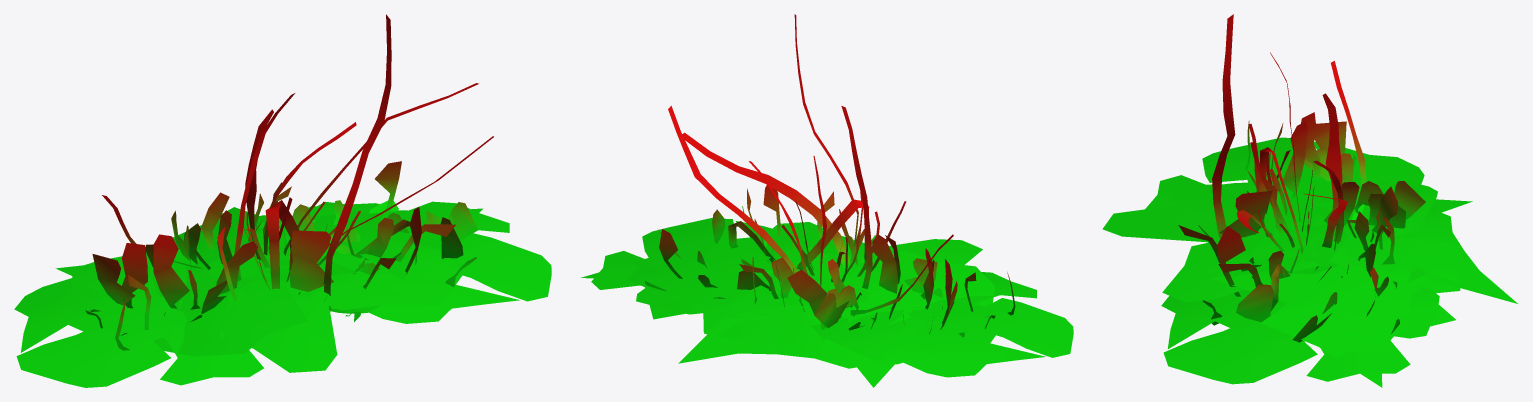
File: Wild Grass_LOD0_Var10_vdilbaiia.fbx
3 views of the same model, side by side, from view 1: azimuth 30°, elevation 25°; view 2: azimuth 150°, elevation 25°; view 3: azimuth 270°, elevation 25° (orthographic). The views are drawn at different scales.
Visible parts, largest first — view 1: _r24w_Var10_LOD0; view 2: _r24w_Var10_LOD0; view 3: _r24w_Var10_LOD0.
Boxes of the visible parts, bbox=[...] form: _r24w_Var10_LOD0: bbox=[14, 14, 551, 387]; _r24w_Var10_LOD0: bbox=[581, 14, 1073, 387]; _r24w_Var10_LOD0: bbox=[1102, 14, 1517, 387].
Size of the model in its own units: 88.19 by 48.53 by 62.15.
